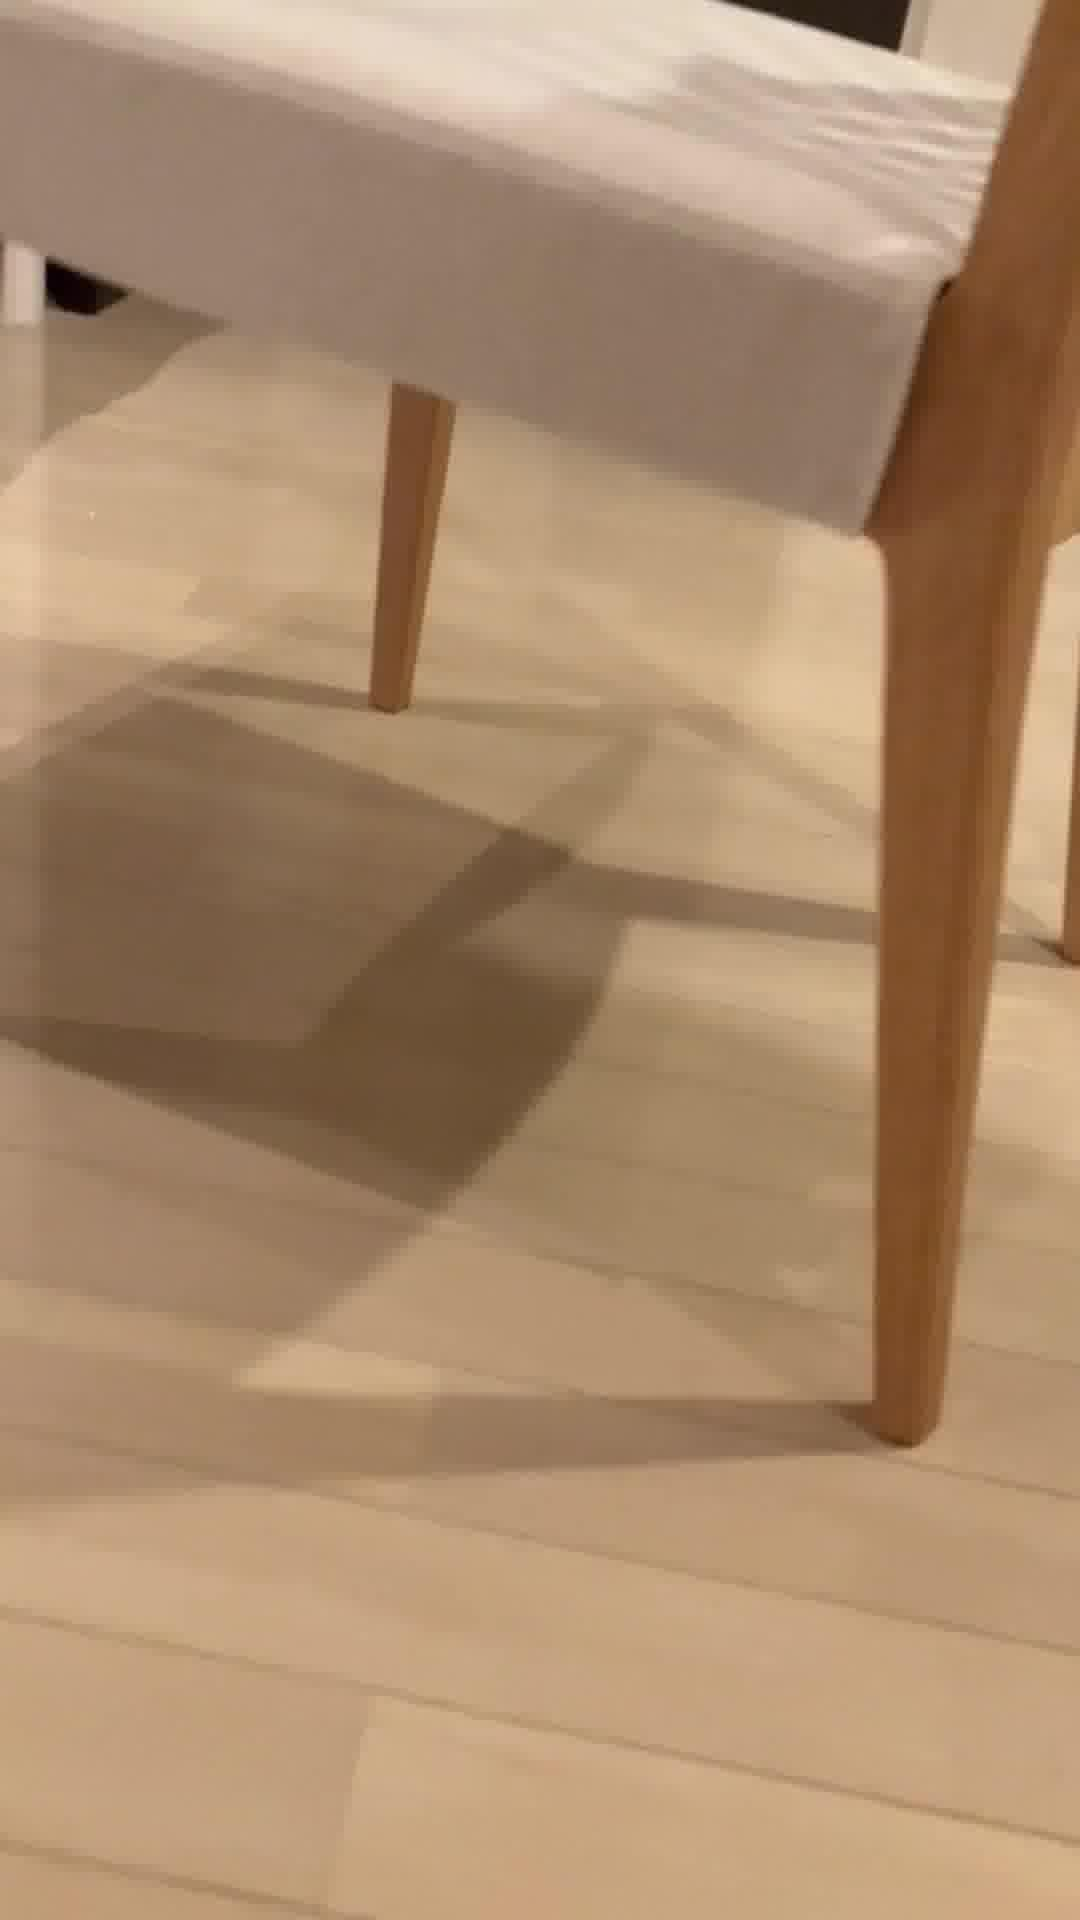takumikan-chair: (0, 0, 1080, 1444)
